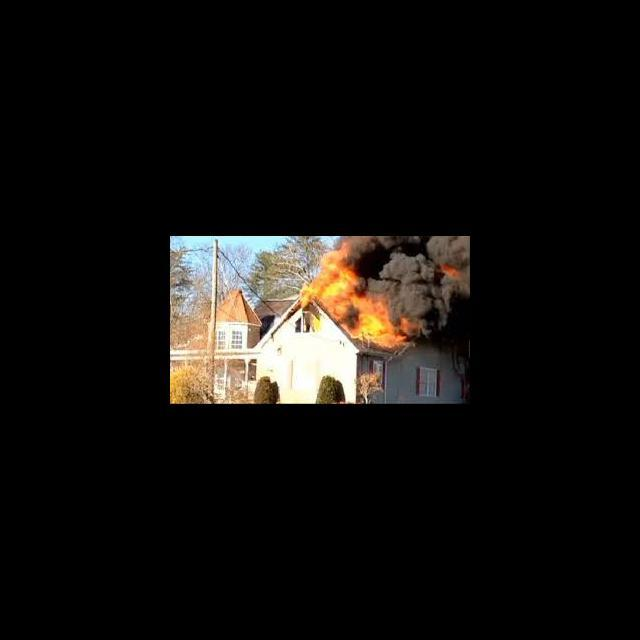Fire: (294, 238, 421, 352), (438, 259, 461, 278)
